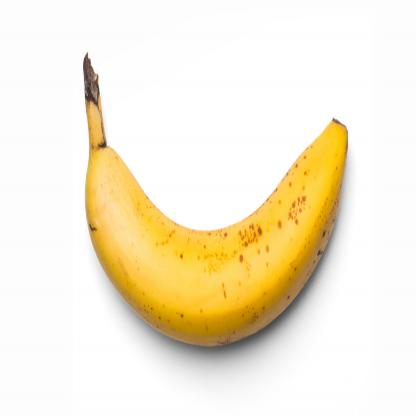banana: (79, 110, 348, 361)
